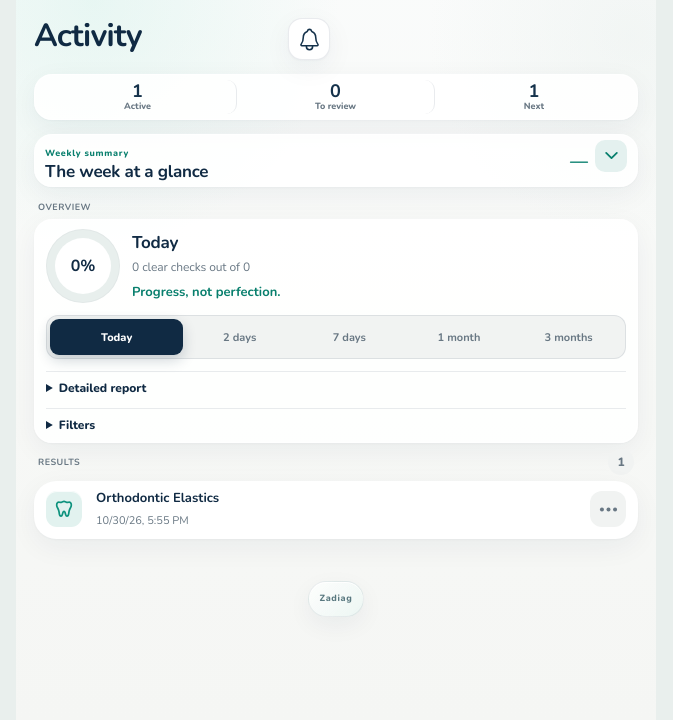
Test: ParentDashboard › lets the responsible person resend active pending checks from current checks
Click the button "1 Active" at (138, 97), box [39,80,237,114]
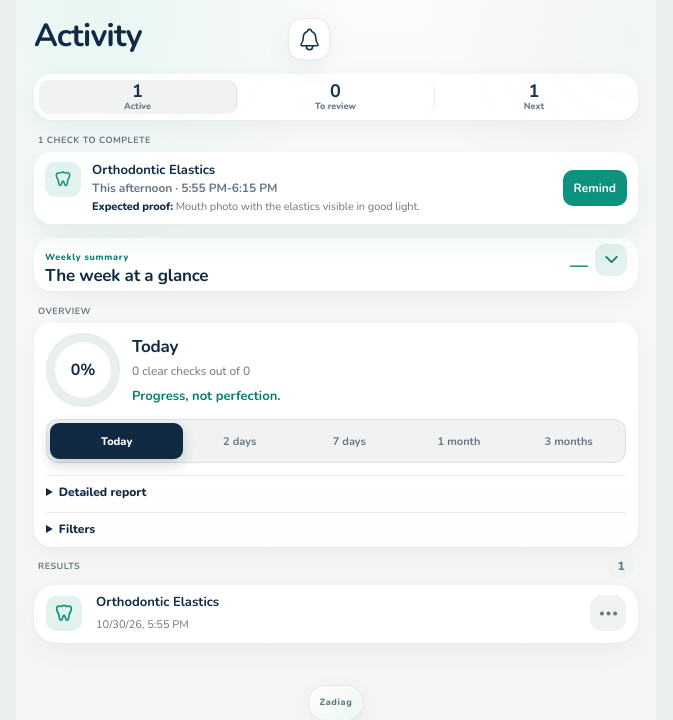
Expected: the button "Remind" is shown
Click the button "Remind" at (595, 188), box [563,170,627,206]
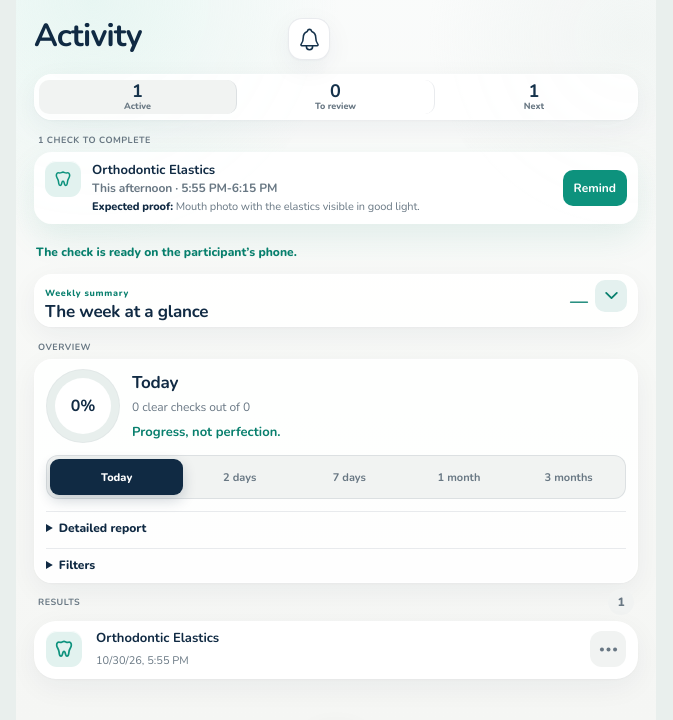
Expected: the text "The check is ready on the participant’s phone." is shown, [36,244,297,260]
